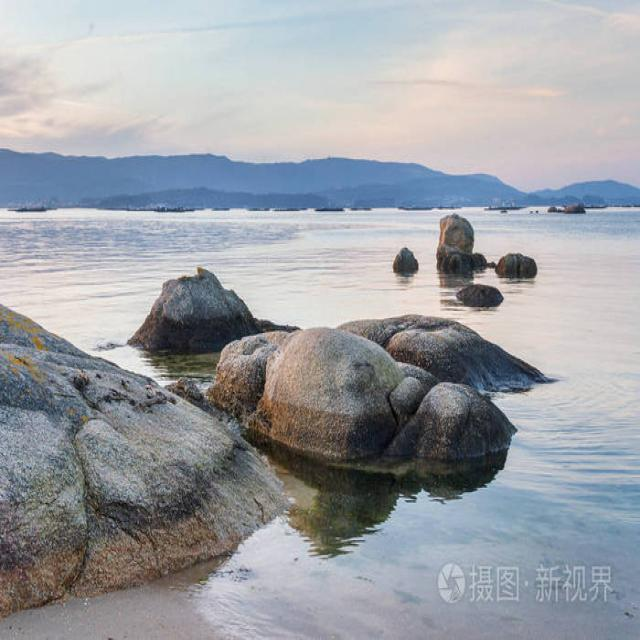reef: (215, 314, 557, 503), (362, 210, 538, 297), (126, 270, 272, 347)
